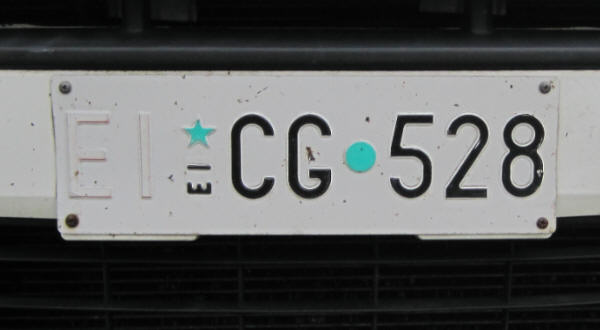license_plate: (49, 71, 561, 239)
